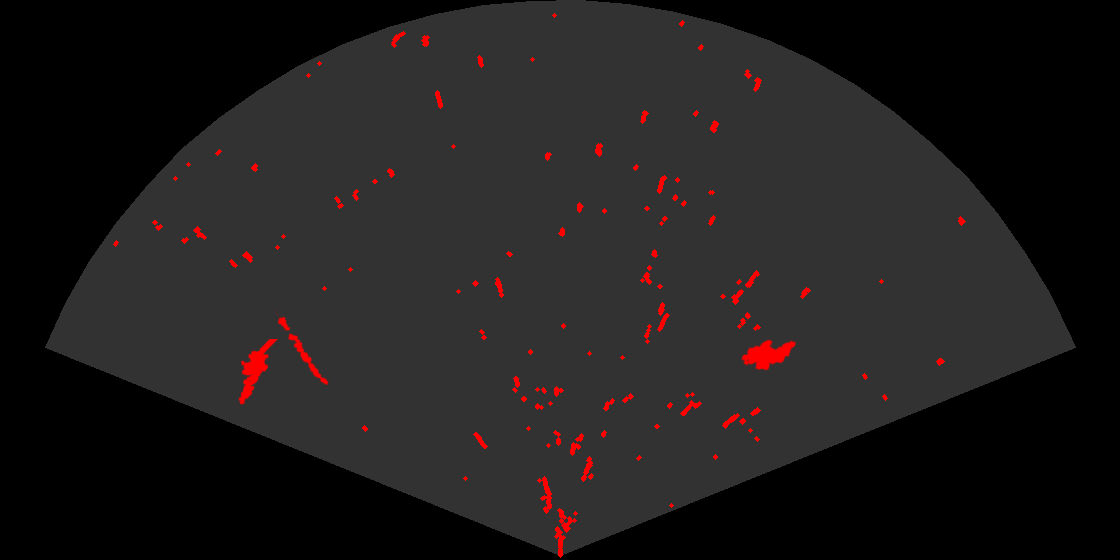AUV: (740, 338, 798, 372)
chain: (273, 310, 330, 387)
frogman: (237, 339, 280, 406)
